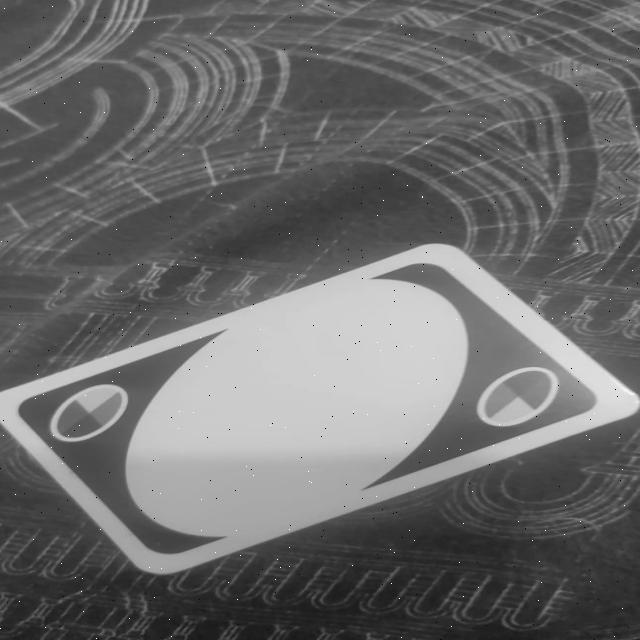wild_card: (0, 241, 640, 575)
